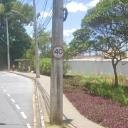speed_limit_40: (52, 46, 65, 59)
